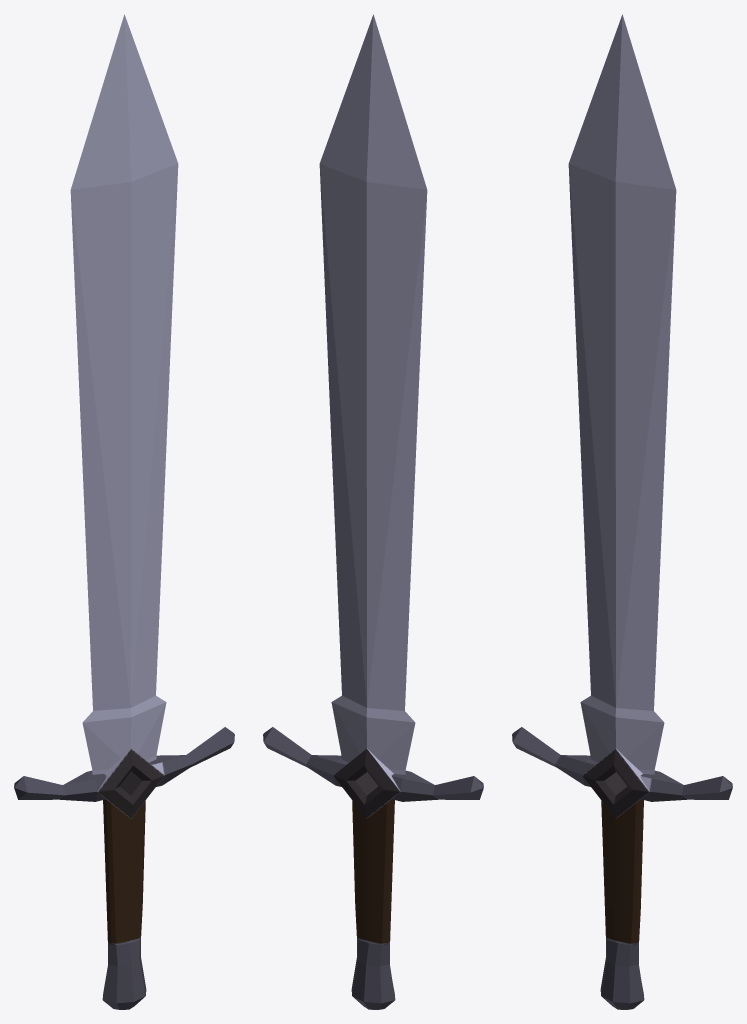
File: Schwert_Loch.glb
The picture shows the model from 3 angles, left to right: view 1: azimuth 30°, elevation 25°; view 2: azimuth 150°, elevation 25°; view 3: azimuth 330°, elevation 25°; orthographic projection.
Visible parts, largest first — view 1: Parrierstange.002; view 2: Parrierstange.002; view 3: Parrierstange.002.
Part boxes in pixels (x1,y1,x2,y2): Parrierstange.002: (14, 14, 234, 1009); Parrierstange.002: (263, 14, 483, 1009); Parrierstange.002: (512, 14, 732, 1009).
Bounding box in the file's own units: 29.48 × 127 × 4.46.
Materials: 1 (1 with a texture image).
